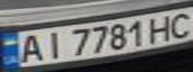1: (124, 17, 151, 47)
7: (87, 22, 112, 54), (66, 25, 90, 56)
8: (106, 20, 130, 52)
A: (15, 31, 48, 64)
C: (163, 9, 193, 39)
H: (145, 12, 178, 43)
I: (39, 29, 66, 60)
